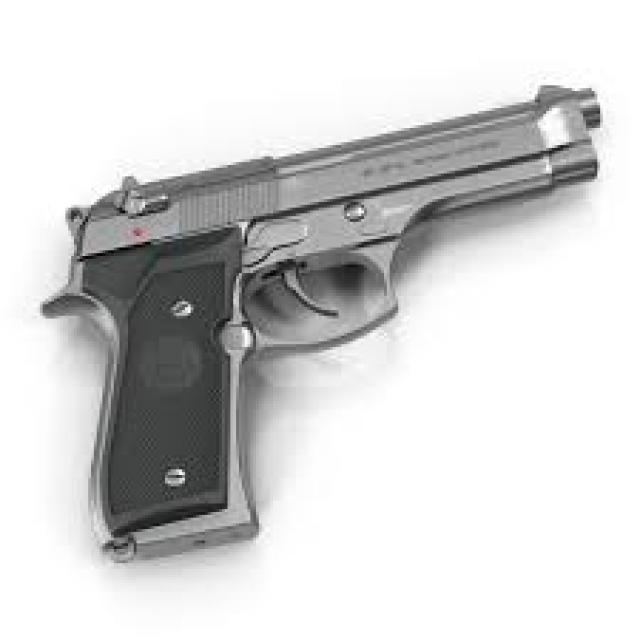pistol: (31, 80, 613, 579)
